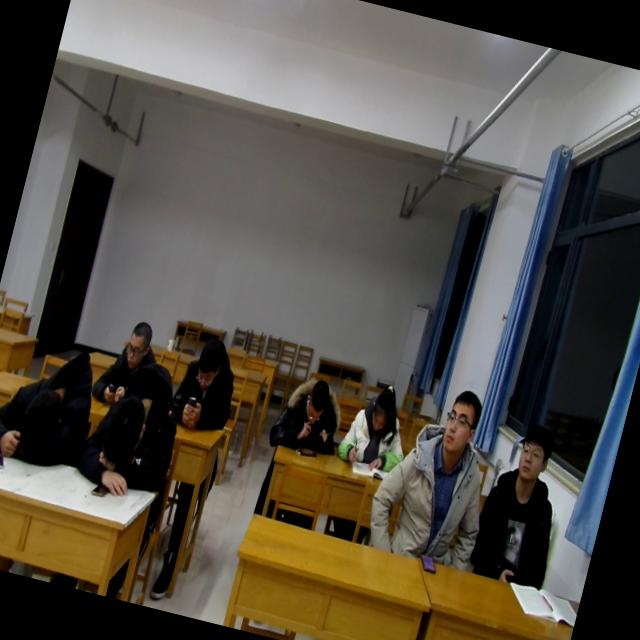bow: (66, 356, 190, 509), (0, 337, 102, 474)
down: (188, 331, 230, 393), (362, 375, 403, 435), (118, 314, 156, 374), (298, 372, 336, 422)
lookup: (434, 382, 487, 466), (506, 416, 560, 487)
sit: (358, 374, 508, 572), (472, 417, 580, 586), (332, 371, 421, 482), (163, 326, 249, 438), (267, 364, 352, 460), (94, 308, 166, 411)
